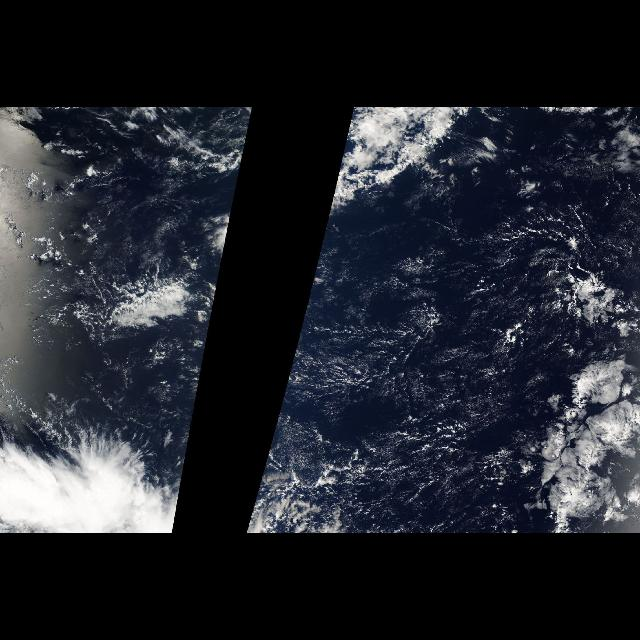Sugar: (271, 218, 544, 530)
